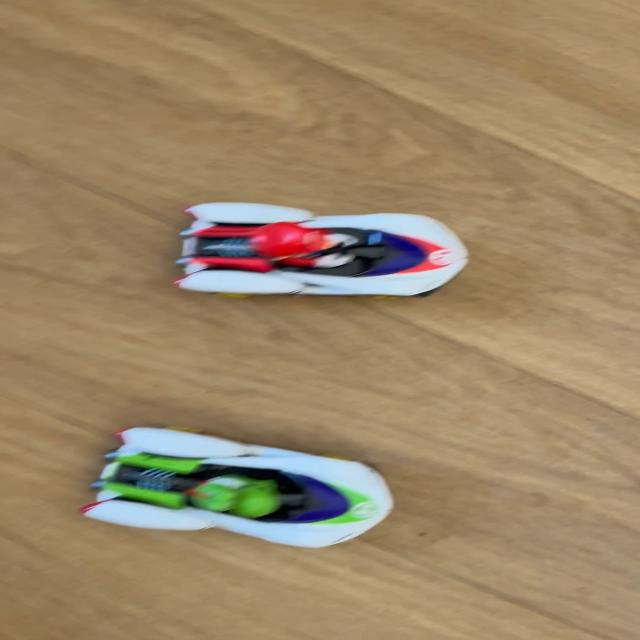mario: (148, 200, 494, 312)
yoshi: (70, 416, 425, 556)
